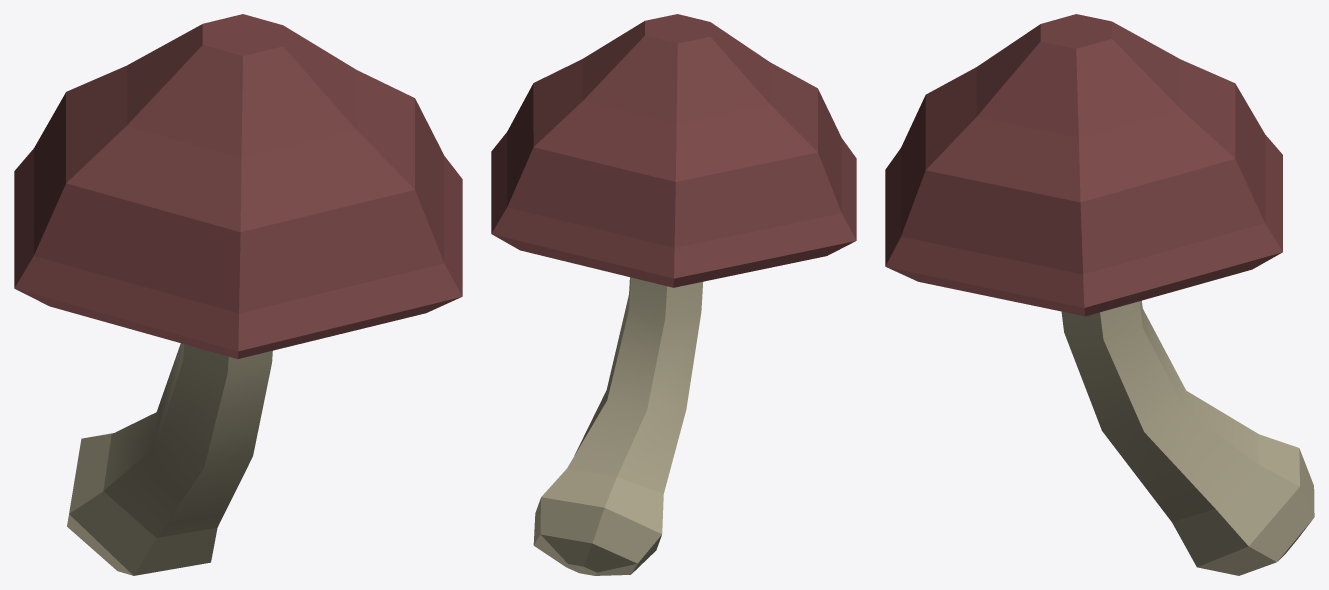
The model's file is Champi.fbx.
The picture shows the model from 3 angles, left to right: view 1: azimuth 30°, elevation 25°; view 2: azimuth 150°, elevation 25°; view 3: azimuth 270°, elevation 25°; orthographic projection. The views are drawn at different scales.
Parts seen in each view (by area): view 1: Champi; view 2: Champi; view 3: Champi.
Part boxes in pixels (bbox=[...]): Champi: bbox=[14, 14, 462, 575]; Champi: bbox=[491, 14, 856, 575]; Champi: bbox=[885, 14, 1314, 575].
Bounding box in the file's own units: 15.6 × 19.96 × 14.56.
